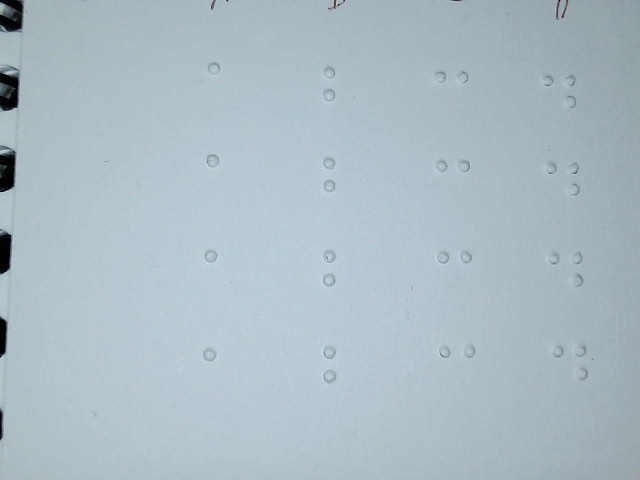A: (200, 53, 251, 131), (199, 141, 250, 219), (196, 239, 247, 317), (195, 337, 246, 415)
B: (314, 56, 367, 135), (315, 146, 368, 225), (314, 239, 367, 318), (315, 336, 368, 415)
C: (428, 59, 478, 129), (429, 149, 479, 219), (430, 241, 480, 311), (433, 335, 483, 405)
